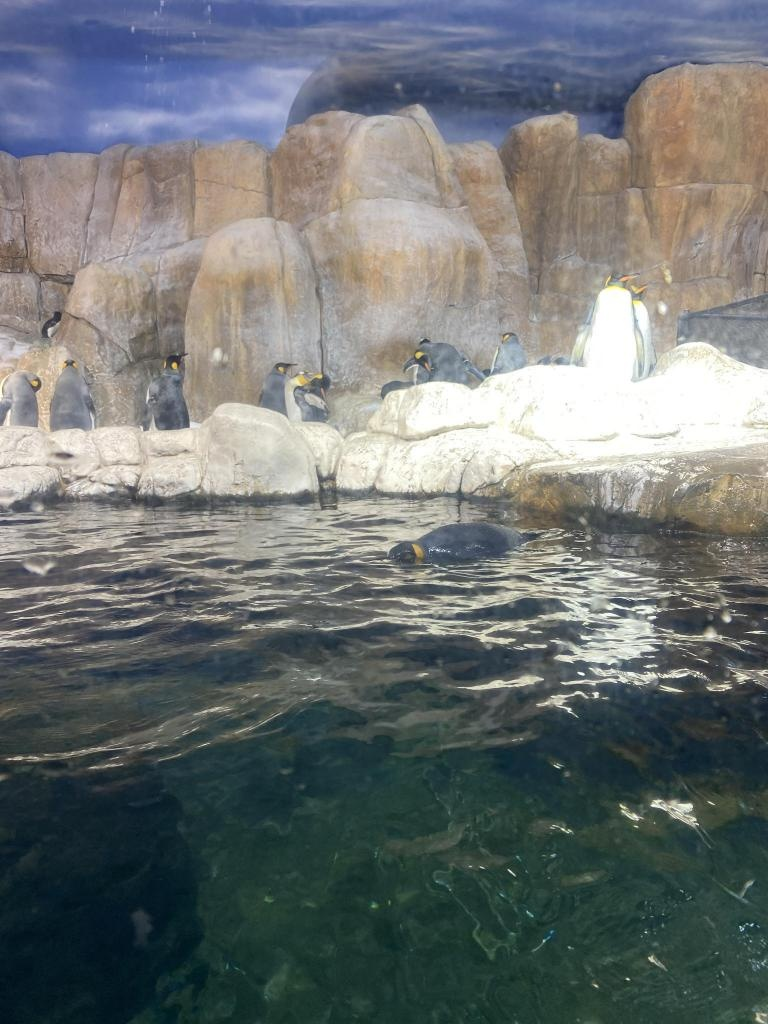penguin: (569, 271, 645, 383), (384, 520, 544, 572), (143, 352, 191, 432), (50, 358, 97, 430), (620, 282, 652, 376), (1, 370, 43, 428), (420, 338, 468, 386), (258, 362, 298, 412), (492, 334, 527, 378), (285, 369, 311, 425), (454, 352, 488, 390), (404, 349, 436, 389), (306, 371, 330, 421)
